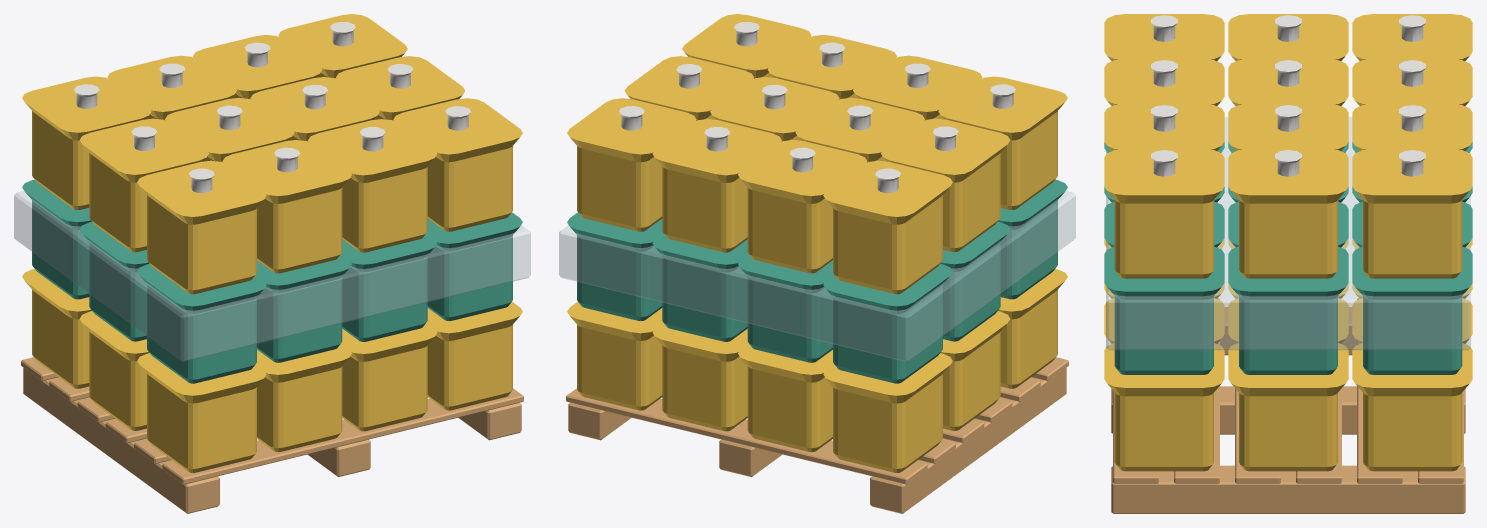
Rendered from petrol-station-and-forecourt-shop-screen-wash-pallet-e983d54e.glb.
The picture shows the model from 3 angles, left to right: view 1: azimuth 30°, elevation 25°; view 2: azimuth 150°, elevation 25°; view 3: azimuth 270°, elevation 25°; orthographic projection. The views are drawn at different scales.
Parts seen in each view (by area): view 1: screen-wash-pallet; view 2: screen-wash-pallet; view 3: screen-wash-pallet.
Part boxes in pixels (left/top/right/bottom): screen-wash-pallet: left=14, top=14, right=530, bottom=513; screen-wash-pallet: left=559, top=14, right=1075, bottom=513; screen-wash-pallet: left=1104, top=14, right=1472, bottom=513.
Bounding box in the file's own units: 1.23 × 1.05 × 1.04.
